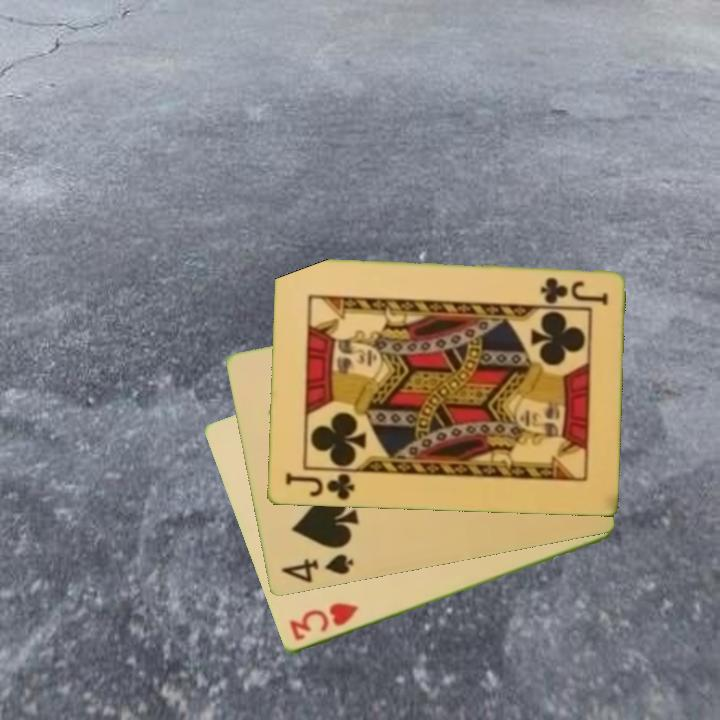3h: (285, 599, 361, 644)
4s: (277, 551, 357, 587)
Jc: (282, 469, 361, 503), (537, 274, 611, 307)
